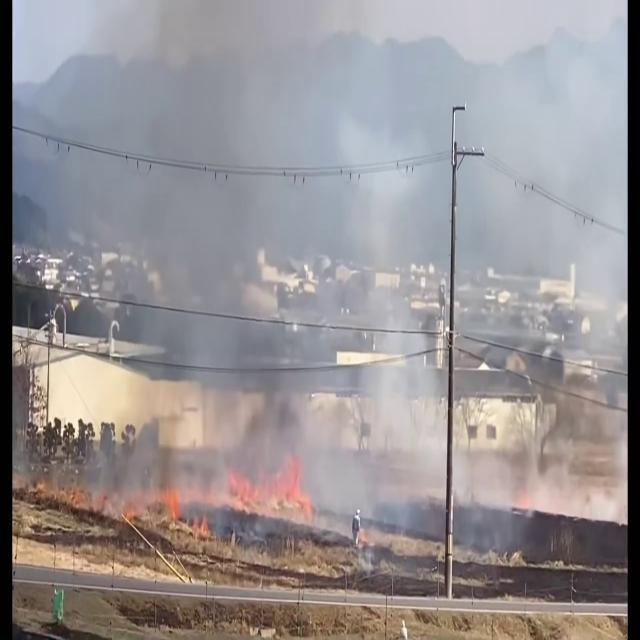Fire: (232, 455, 324, 525), (138, 480, 210, 540)
Smoke: (59, 0, 404, 463), (338, 293, 502, 516)
